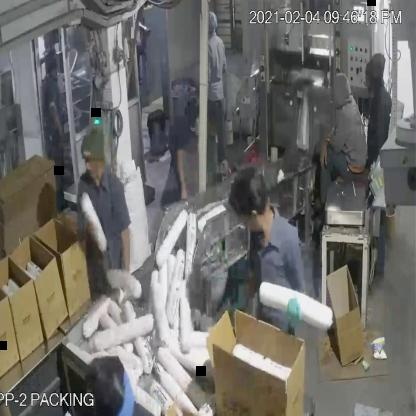no_glove: (112, 212, 136, 293), (316, 135, 338, 177), (176, 143, 190, 199)
